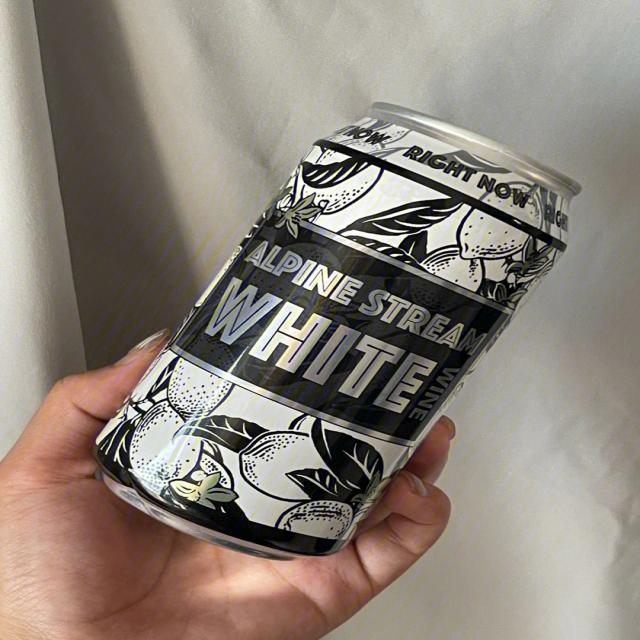can: (97, 103, 578, 556)
